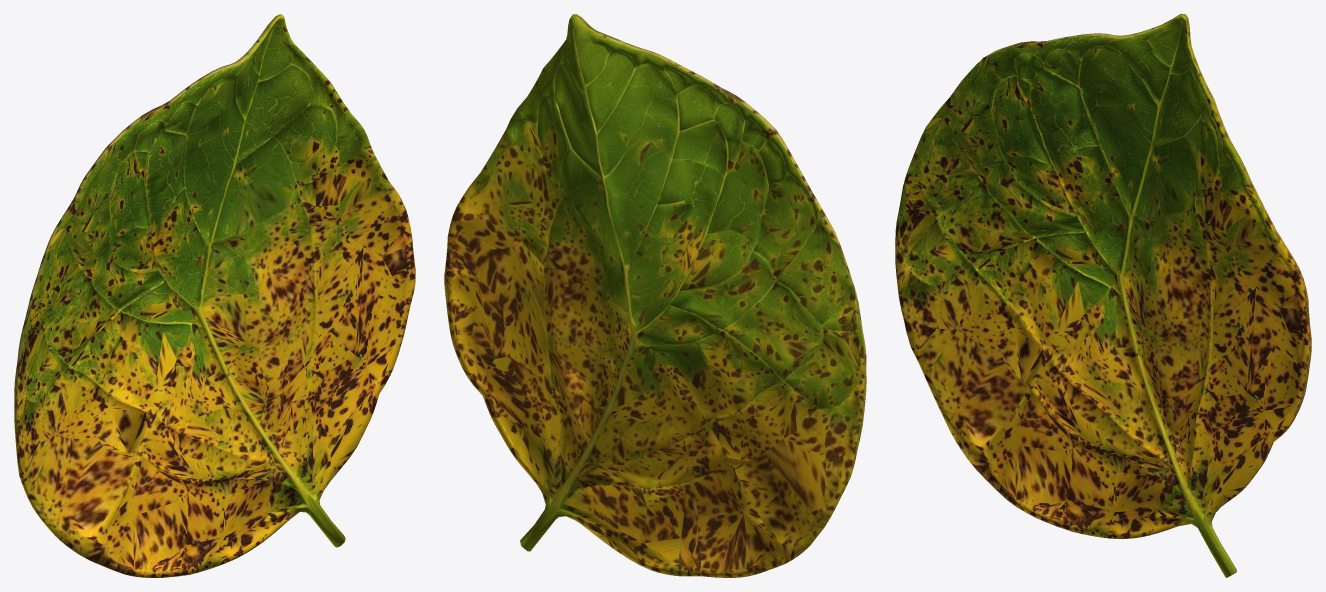
Rendered from soybean_septoria_brown_spot.glb.
3 views of the same model, side by side, from view 1: azimuth 30°, elevation 25°; view 2: azimuth 150°, elevation 25°; view 3: azimuth 330°, elevation 25° (orthographic). The views are drawn at different scales.
Parts seen in each view (by area): view 1: soybean_septoria_brown_spot; view 2: soybean_septoria_brown_spot; view 3: soybean_septoria_brown_spot.
Part boxes in pixels (x1=…): soybean_septoria_brown_spot: x1=14, y1=14, x2=415, y2=577; soybean_septoria_brown_spot: x1=444, y1=14, x2=866, y2=577; soybean_septoria_brown_spot: x1=895, y1=14, x2=1311, y2=577.
Bounding box in the file's own units: 0.7854 × 0.9997 × 0.0962.
1 material, 1 textured.
